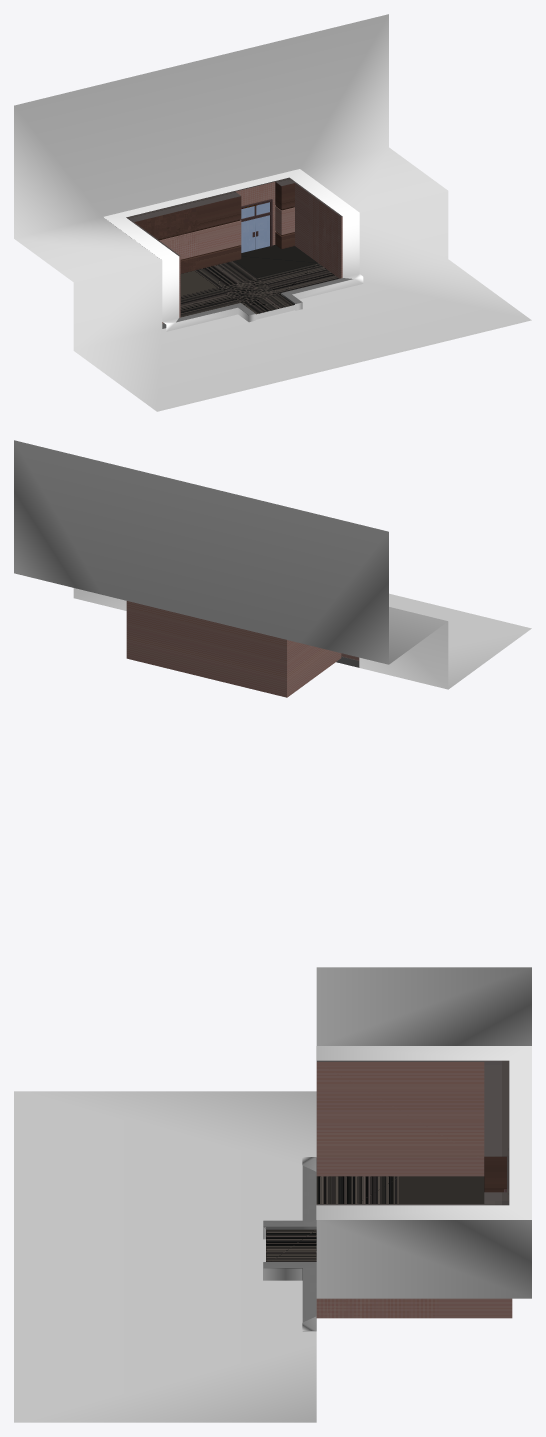
The model's file is a_com_building_b09.gltf.
3 views of the same model, one above another, from view 1: azimuth 30°, elevation 25°; view 2: azimuth 150°, elevation 25°; view 3: azimuth 270°, elevation 25° (orthographic). The views are drawn at different scales.
Visible parts, largest first — view 1: a_com_building_b09_outsideblank01_mesh_shape:a_com_building_, um_a_com_building_b09_model_a_com_building_b09_modelShape:a_ (×6), nomerge_outside_edge_shape:mat_texture_edge02, a_com_building_b09_ceiling01_mesh_shape:a_com_building_b09_c; view 2: a_com_building_b09_outsideblank01_mesh_shape:a_com_building_, um_a_com_building_b09_model_a_com_building_b09_modelShape:a_; view 3: a_com_building_b09_outsideblank01_mesh_shape:a_com_building_, um_a_com_building_b09_model_a_com_building_b09_modelShape:a_ (×4), nomerge_outside_edge_shape:mat_texture_edge02, a_com_building_b09_ceiling01_mesh_shape:a_com_building_b09_c.
Part boxes in pixels (left/top/right/bottom): a_com_building_b09_outsideblank01_mesh_shape:a_com_building_: left=14, top=14, right=531, bottom=411; um_a_com_building_b09_model_a_com_building_b09_modelShape:a_ (×6): left=134, top=182, right=352, bottom=328; nomerge_outside_edge_shape:mat_texture_edge02: left=103, top=169, right=363, bottom=331; a_com_building_b09_ceiling01_mesh_shape:a_com_building_b09_c: left=126, top=177, right=342, bottom=256; a_com_building_b09_outsideblank01_mesh_shape:a_com_building_: left=14, top=440, right=531, bottom=689; um_a_com_building_b09_model_a_com_building_b09_modelShape:a_: left=126, top=601, right=359, bottom=697; a_com_building_b09_outsideblank01_mesh_shape:a_com_building_: left=14, top=967, right=531, bottom=1422; um_a_com_building_b09_model_a_com_building_b09_modelShape:a_ (×4): left=263, top=1062, right=512, bottom=1331; nomerge_outside_edge_shape:mat_texture_edge02: left=263, top=1046, right=531, bottom=1330; a_com_building_b09_ceiling01_mesh_shape:a_com_building_b09_c: left=316, top=1060, right=509, bottom=1205.
Bounding box in the file's own units: 28 × 14.38 × 18.5.
9 materials, 7 textured.
